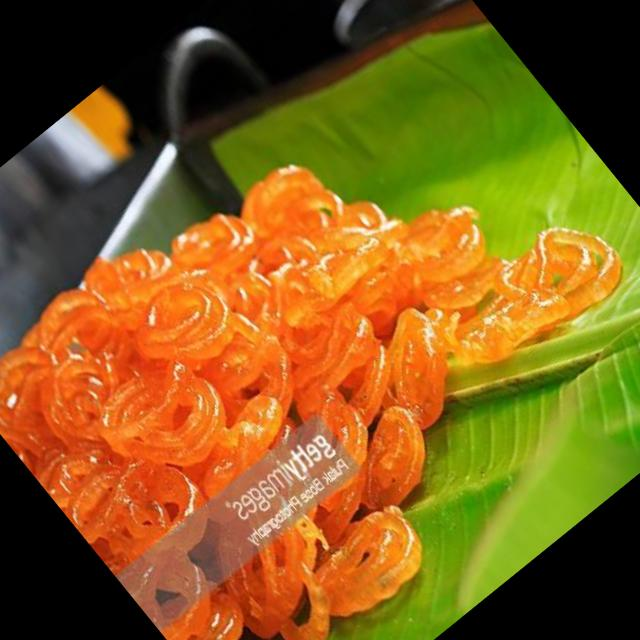jalebi: (0, 22, 640, 640)
